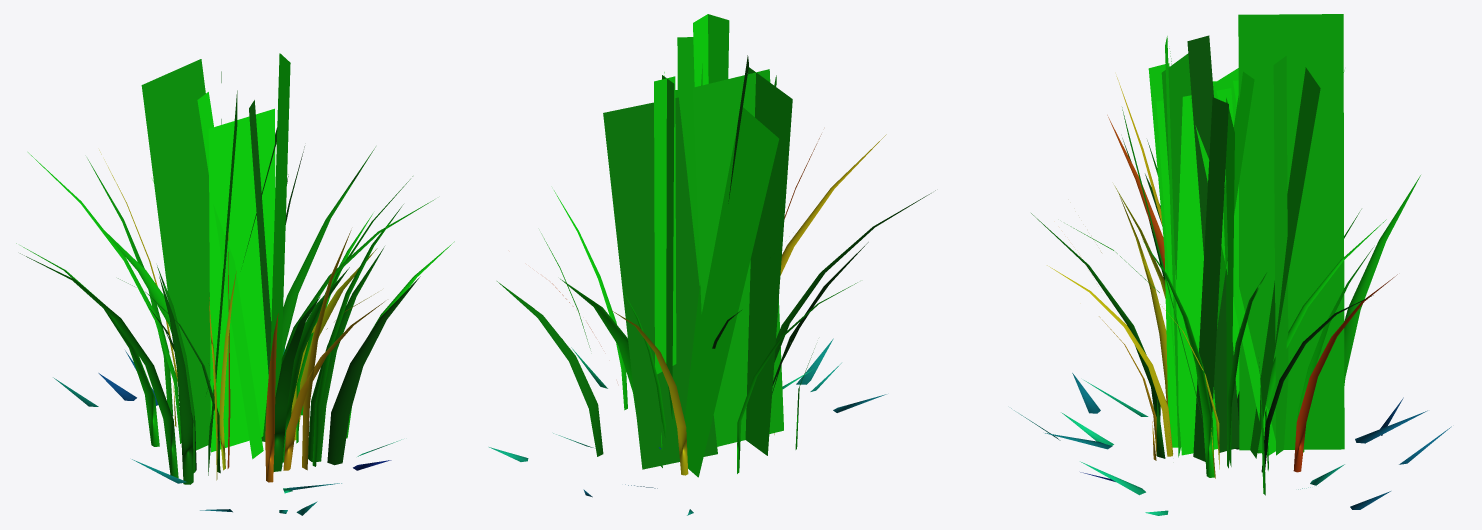
The model's file is tall.glb.
3 views of the same model, side by side, from view 1: azimuth 30°, elevation 25°; view 2: azimuth 150°, elevation 25°; view 3: azimuth 270°, elevation 25° (orthographic). The views are drawn at different scales.
Visible parts, largest first — view 1: tall_0_1, tall_1_0, tall_1_1, tall_0_0; view 2: tall_0_0, tall_1_0, tall_1_1, tall_0_1; view 3: tall_1_1, tall_0_0, tall_1_0, tall_0_1.
Part boxes in pixels (<box>): tall_0_1: <box>87,59,351,490</box>; tall_1_0: <box>28,53,434,512</box>; tall_1_1: <box>149,100,420,484</box>; tall_0_0: <box>16,71,454,515</box>; tall_0_0: <box>554,75,886,515</box>; tall_1_0: <box>500,14,935,488</box>; tall_1_1: <box>489,242,868,461</box>; tall_0_1: <box>560,279,636,413</box>; tall_1_1: <box>1031,14,1344,489</box>; tall_0_0: <box>1011,48,1451,515</box>; tall_1_0: <box>1061,35,1427,509</box>; tall_0_1: <box>1045,67,1420,470</box>.
Bounding box in the file's own units: 0.9607 × 0.8538 × 0.8576.
